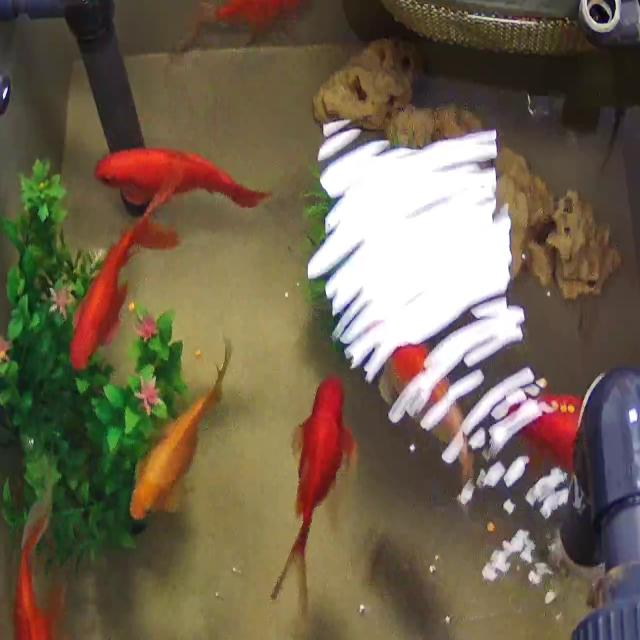fish: (127, 340, 229, 536), (268, 366, 351, 604), (68, 201, 178, 366), (96, 145, 270, 216), (380, 341, 466, 474), (0, 507, 75, 640), (174, 0, 313, 54)
